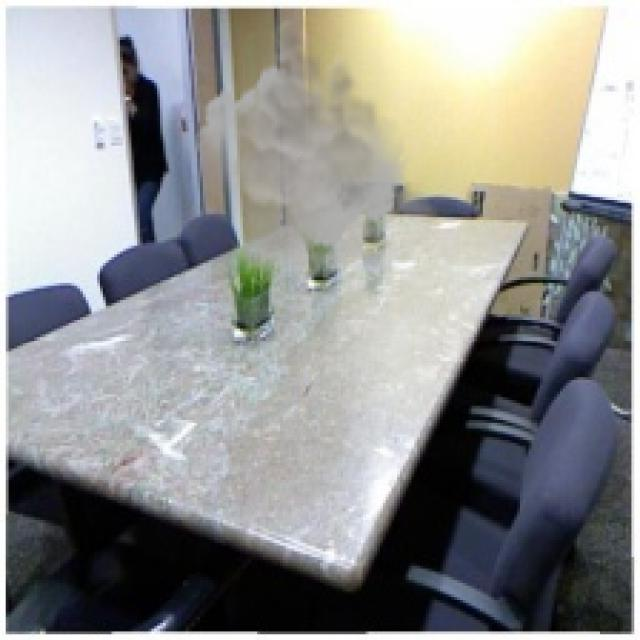smoke: (191, 14, 440, 283)
